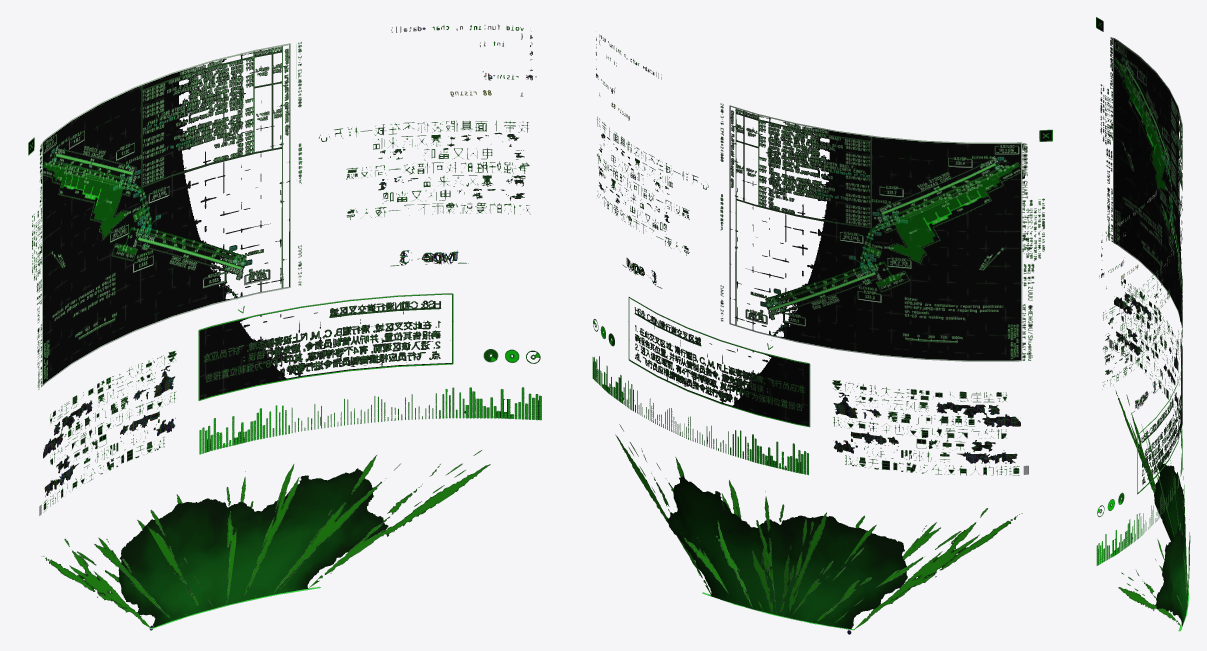
The model's file is FUT0410018.fbx.
3 renders of one model, left to right at view 1: azimuth 30°, elevation 25°; view 2: azimuth 150°, elevation 25°; view 3: azimuth 270°, elevation 25°, orthographic. The views are drawn at different scales.
Parts seen in each view (by area): view 1: smFUT0410018; view 2: smFUT0410018; view 3: smFUT0410018.
Boxes of the visible parts, <box> form: smFUT0410018: <box>28,24,541,630</box>; smFUT0410018: <box>592,34,1052,634</box>; smFUT0410018: <box>1096,17,1190,631</box>.
Size of the model in its own units: 288 by 292 by 54.62.
Materials: 1 (1 with a texture image).
